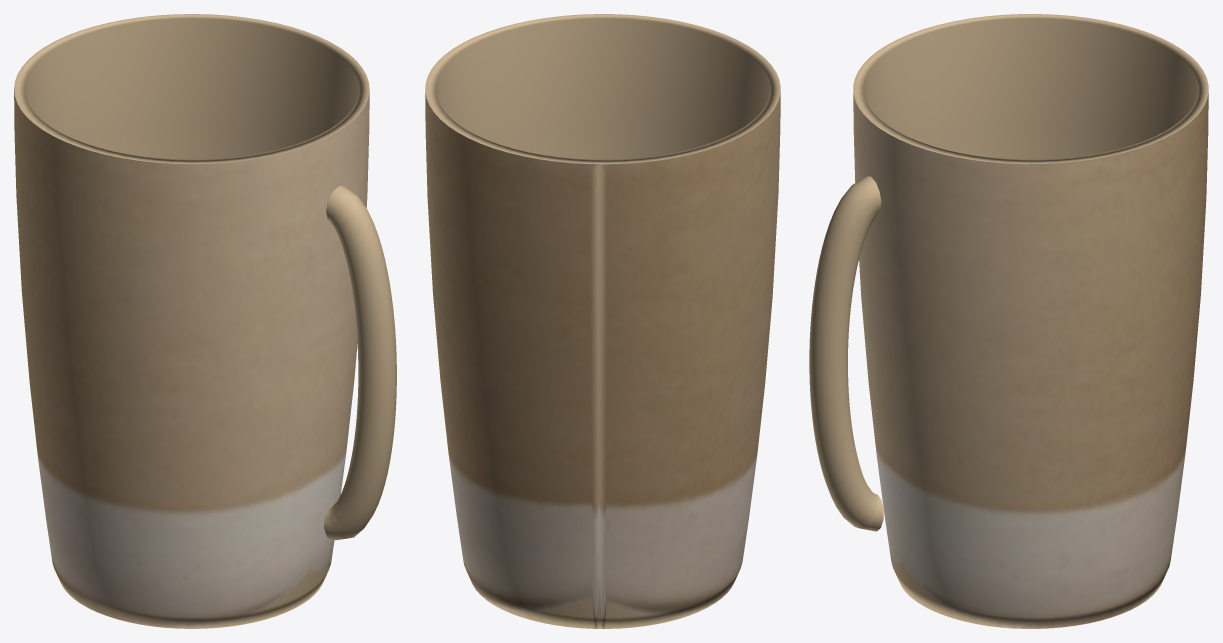
File: CER-05.glb
The picture shows the model from 3 angles, left to right: view 1: azimuth 30°, elevation 25°; view 2: azimuth 150°, elevation 25°; view 3: azimuth 270°, elevation 25°; orthographic projection.
Size of the model in its own units: 0.0749 by 0.1125 by 0.0842.
Materials: 3 (1 with a texture image).
